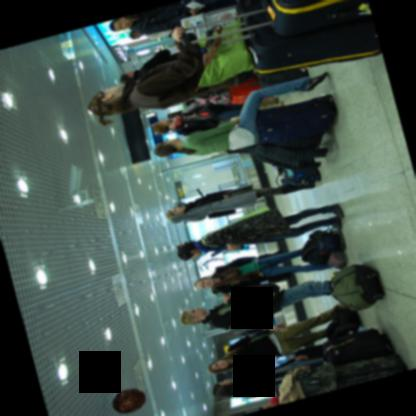backpack: (329, 262, 384, 310), (218, 312, 273, 334), (301, 229, 331, 264), (272, 166, 320, 186), (234, 282, 281, 297)
handbag: (202, 206, 269, 245), (225, 331, 272, 353), (327, 249, 345, 268), (208, 87, 230, 102), (207, 208, 235, 217)
suitcase: (240, 1, 381, 77), (182, 0, 372, 45), (300, 352, 407, 397), (257, 92, 337, 143), (319, 325, 390, 364), (228, 76, 262, 102), (236, 0, 264, 12)
